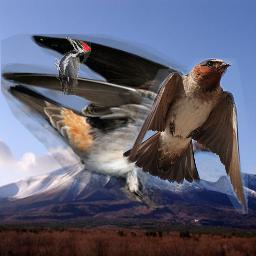Swallow: (1, 34, 235, 210), (123, 58, 248, 214)
Woodpecker: (55, 36, 91, 95)
